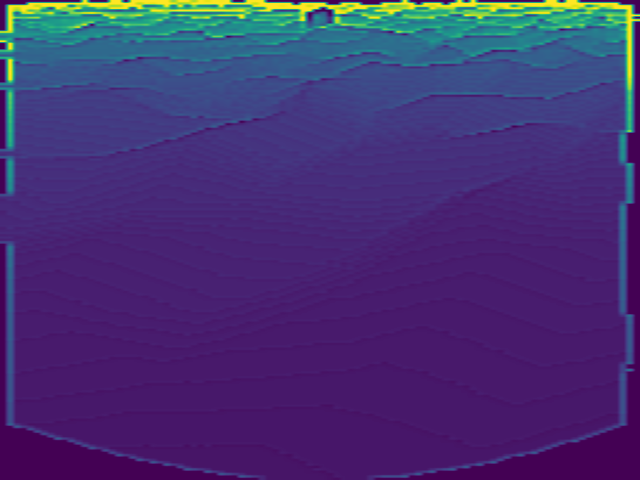car_0198: (304, 8, 337, 30)
